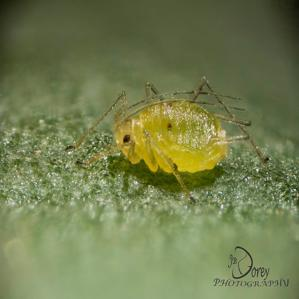Green peach aphid: (56, 64, 269, 214)
